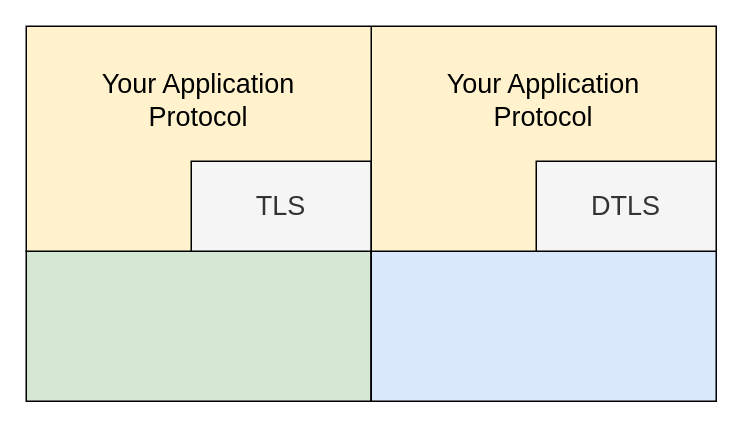
Some shapes in this 743 by 429 pixel diagram are drawn without their labels. Each missing label, with the box of its shape:
TCP: (25, 250, 371, 401)
UDP: (370, 250, 716, 401)
